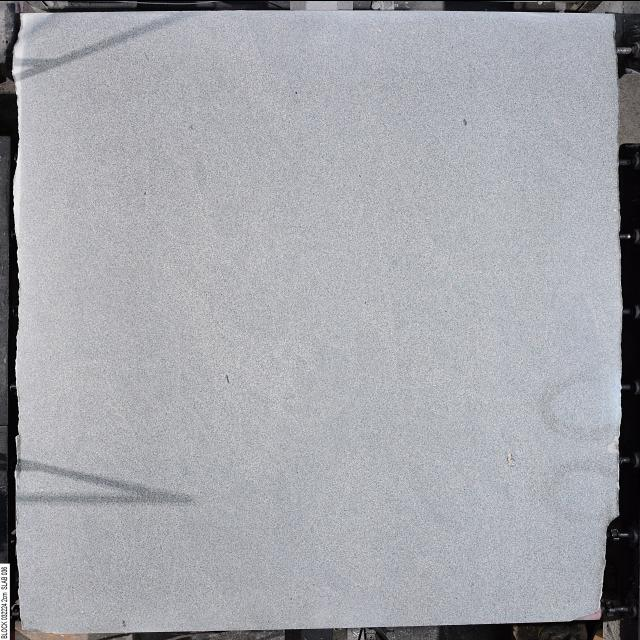chapa: (16, 10, 621, 631)
